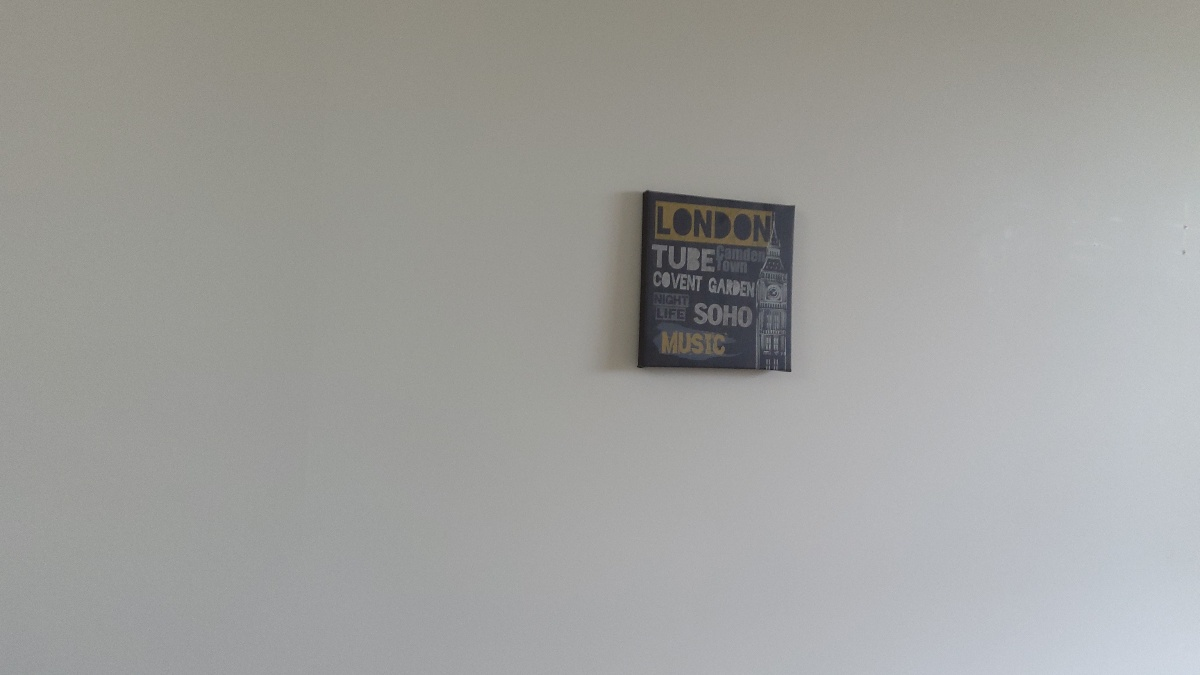poster: (637, 181, 805, 380)
